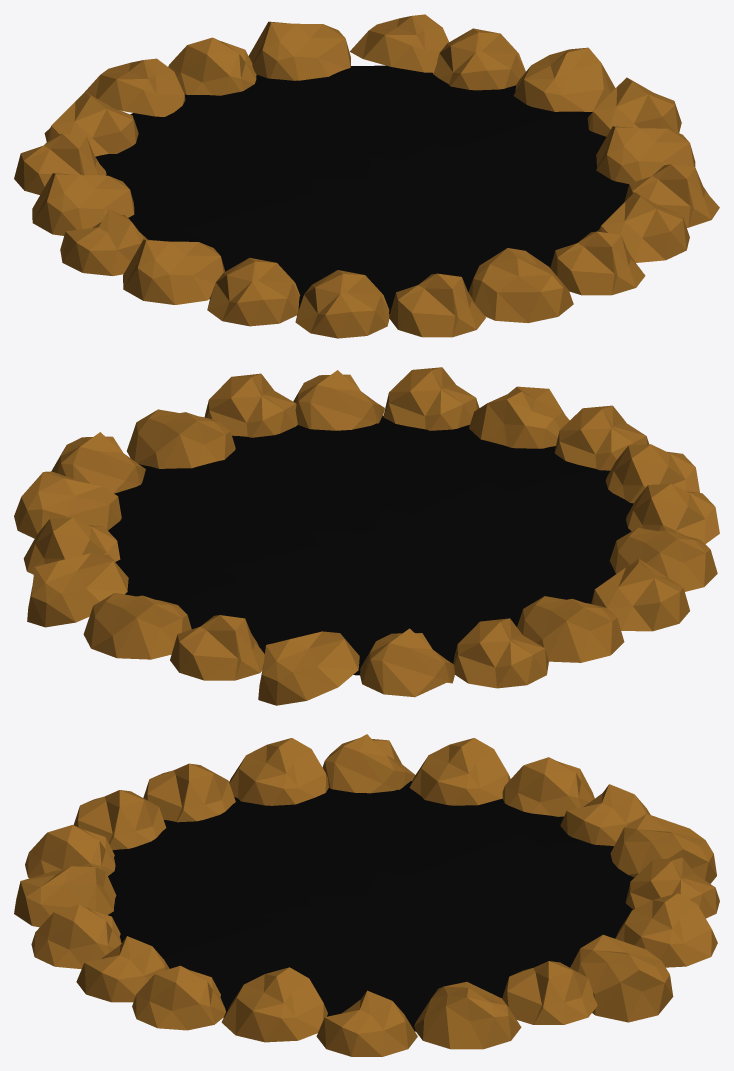
File: hole.fbx
3 renders of one model, top to bottom at view 1: azimuth 30°, elevation 25°; view 2: azimuth 150°, elevation 25°; view 3: azimuth 270°, elevation 25°, orthographic. The views are drawn at different scales.
Visible parts, largest first — view 1: 球, ICO球.006, ICO球.015, ICO球.009, ICO球.014, ICO球.016, ICO球.001, ICO球.004, ICO球.007, ICO球.010, ICO球.002, ICO球.018 (+9 smaller); view 2: 球, ICO球.012, ICO球.009, ICO球.017, ICO球.004, ICO球.018, ICO球.005, ICO球.008, ICO球.003, ICO球.006, ICO球.011, ICO球.001 (+9 smaller); view 3: 球, ICO球.017, ICO球.018, ICO球.001, ICO球.015, ICO球.009, ICO球.004, ICO球.002, ICO球.019, ICO球, ICO球.012, ICO球.006 (+9 smaller).
Part boxes in pixels (x1,y1,x2,y2): 球: (95, 65, 628, 314); ICO球.006: (468, 248, 573, 322); ICO球.015: (123, 239, 224, 304); ICO球.009: (248, 21, 350, 80); ICO球.014: (295, 270, 389, 338); ICO球.016: (207, 257, 300, 326); ICO球.001: (513, 47, 615, 111); ICO球.004: (32, 173, 134, 235); ICO球.007: (389, 273, 485, 337); ICO球.010: (550, 231, 645, 295); ICO球.002: (433, 28, 525, 90); ICO球.018: (596, 126, 695, 183); 球: (108, 416, 633, 675); ICO球.012: (258, 631, 359, 705); ICO球.009: (83, 593, 191, 659); ICO球.017: (27, 553, 128, 627); ICO球.004: (517, 596, 624, 662); ICO球.018: (127, 409, 235, 468); ICO球.005: (453, 618, 548, 688); ICO球.008: (170, 615, 264, 680); ICO球.003: (591, 559, 689, 631); ICO球.006: (469, 386, 569, 448); ICO球.011: (360, 628, 454, 697); ICO球.001: (14, 471, 121, 538); 球: (108, 781, 634, 1031); ICO球.017: (570, 934, 673, 1022); ICO球.018: (221, 967, 327, 1042); ICO球.001: (414, 982, 521, 1049); ICO球.015: (229, 738, 328, 805); ICO球.009: (615, 893, 717, 967); ICO球.004: (409, 738, 510, 805); ICO球.002: (502, 961, 597, 1024); ICO球.019: (132, 965, 225, 1030); ICO球: (316, 990, 417, 1056); ICO球.012: (610, 814, 716, 883); ICO球.006: (14, 865, 116, 927).
Size of the model in its own units: 234 by 22.49 by 234.
